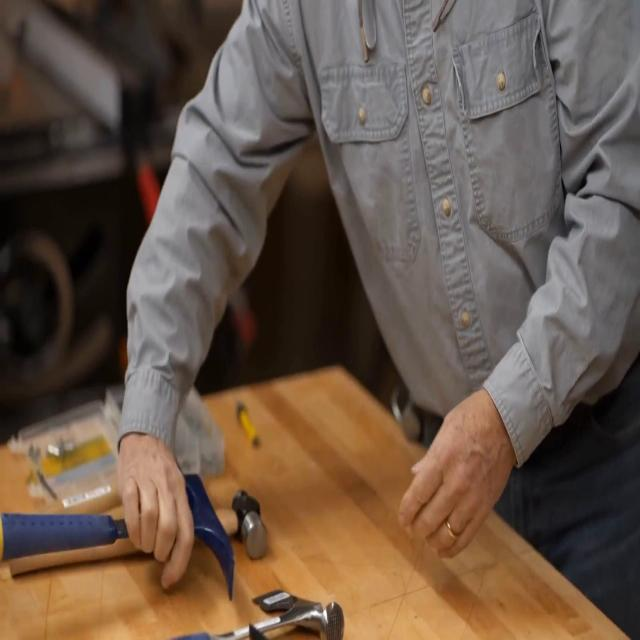hammer: (0, 471, 235, 602), (9, 487, 270, 575), (166, 588, 345, 640)
